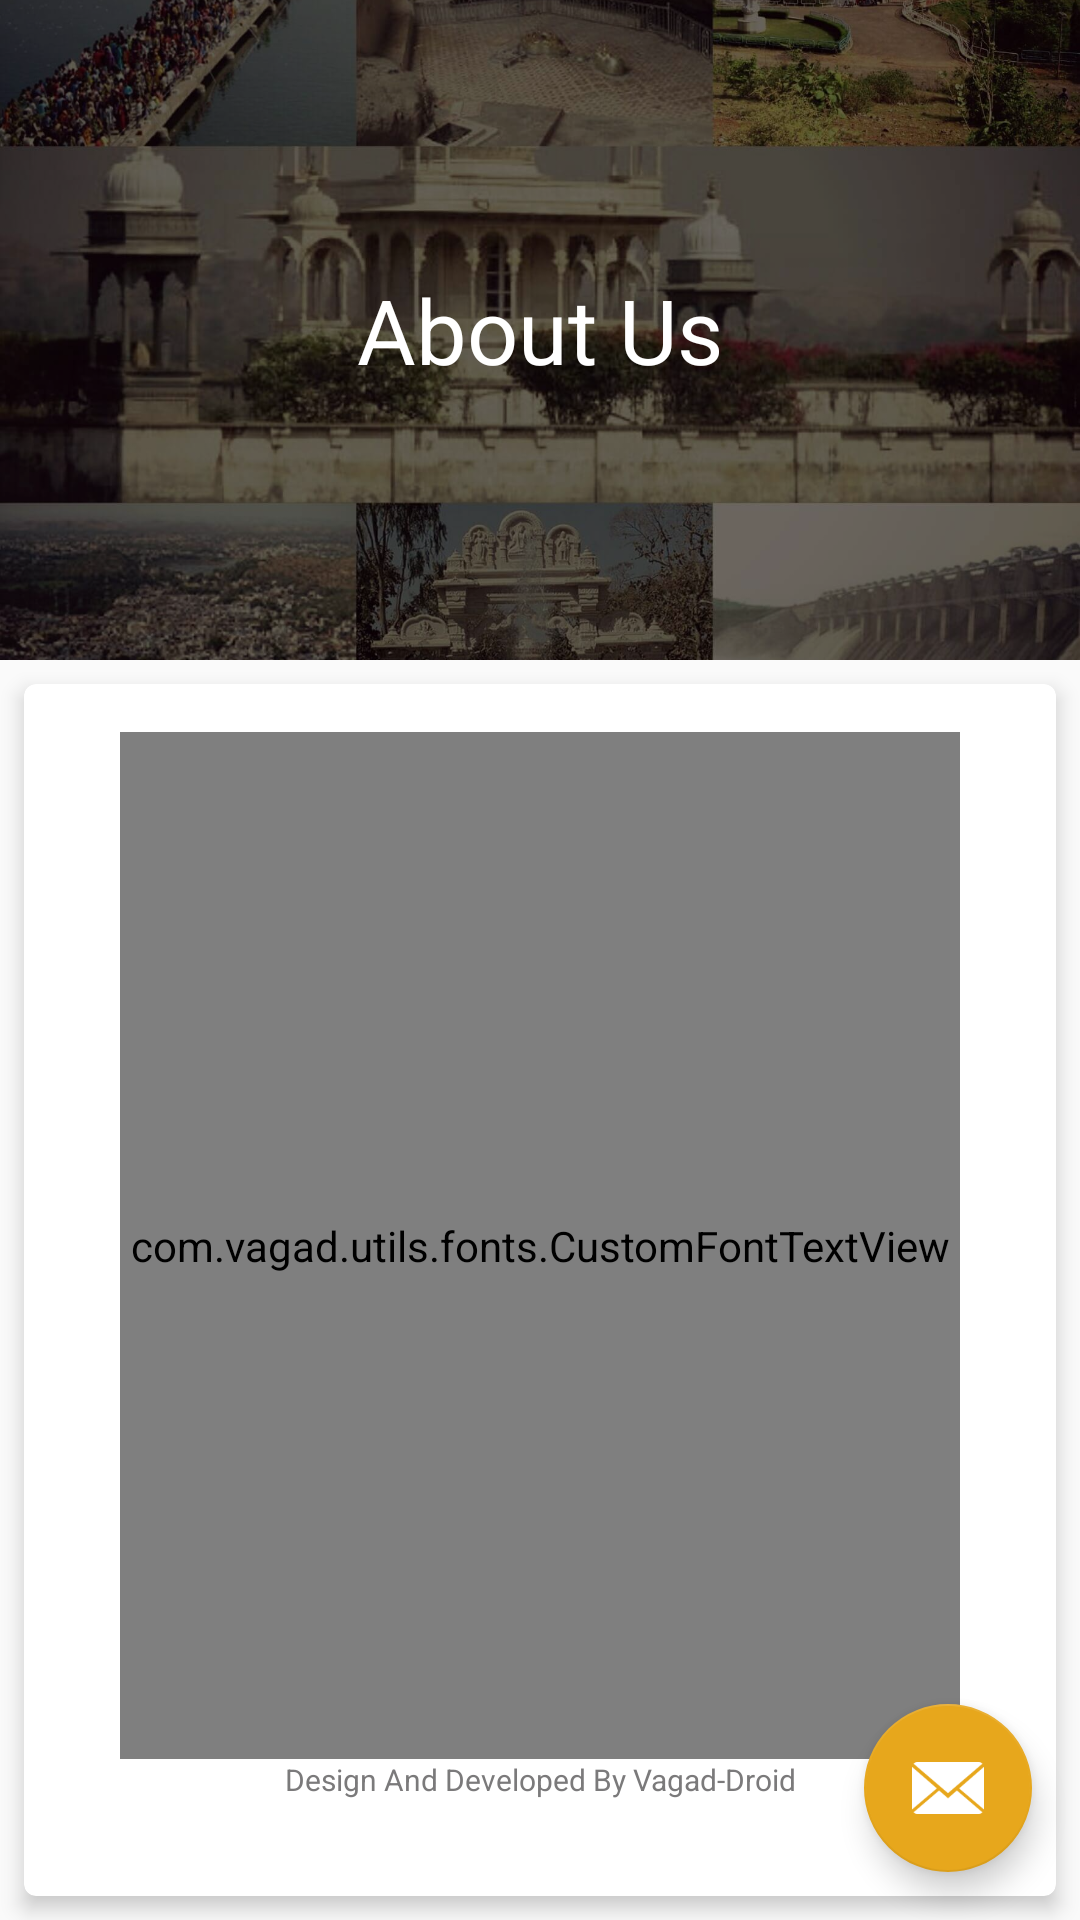

Locate icon controls on the screen. Image size 1080px x 1920px, boxes as (x1,y1,x2,y2).
mail: (864,1704,1032,1872)
